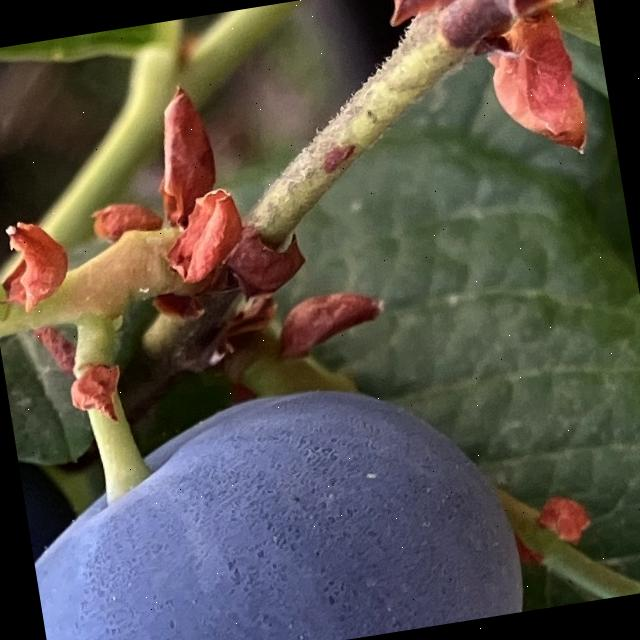Blueberries: (14, 357, 532, 640)
